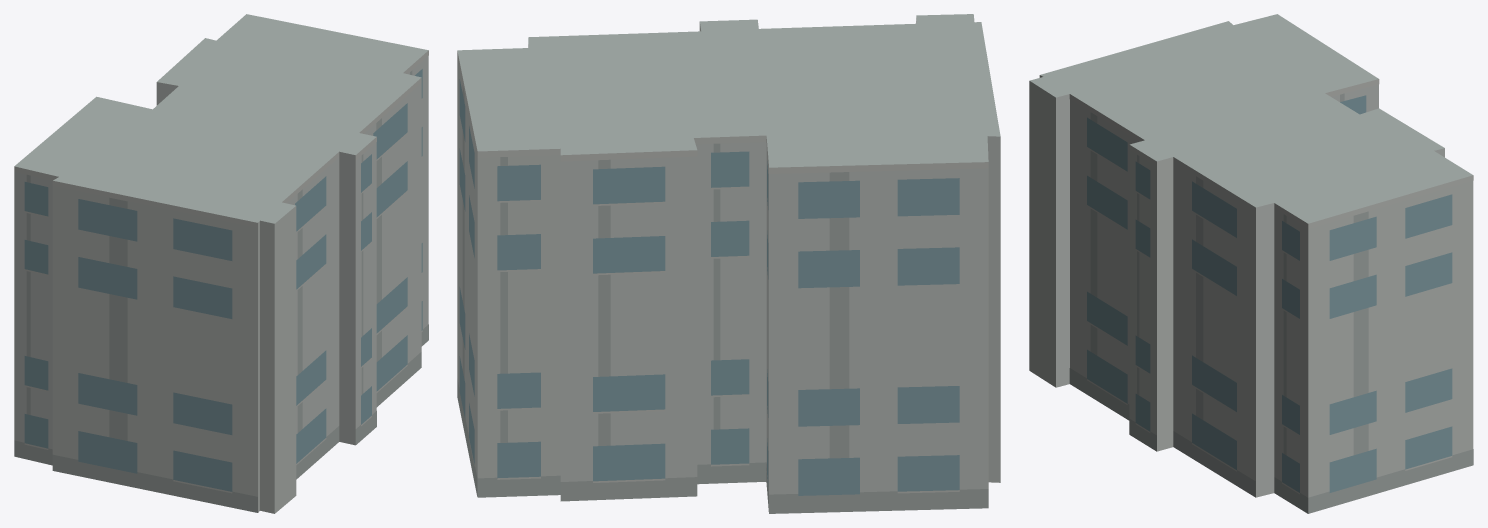
File: survey-upis-32579082.glb
The picture shows the model from 3 angles, left to right: view 1: azimuth 30°, elevation 25°; view 2: azimuth 150°, elevation 25°; view 3: azimuth 270°, elevation 25°; orthographic projection. The views are drawn at different scales.
Parts seen in each view (by area): view 1: survey-upis-32579082.tmp; view 2: survey-upis-32579082.tmp; view 3: survey-upis-32579082.tmp.
Boxes of the visible parts, x1,y1,x2,y2 form: survey-upis-32579082.tmp: (14,14,428,513); survey-upis-32579082.tmp: (457,14,1000,513); survey-upis-32579082.tmp: (1029,14,1473,513).
Size of the model in its own units: 20.48 by 13.2 by 18.31.
